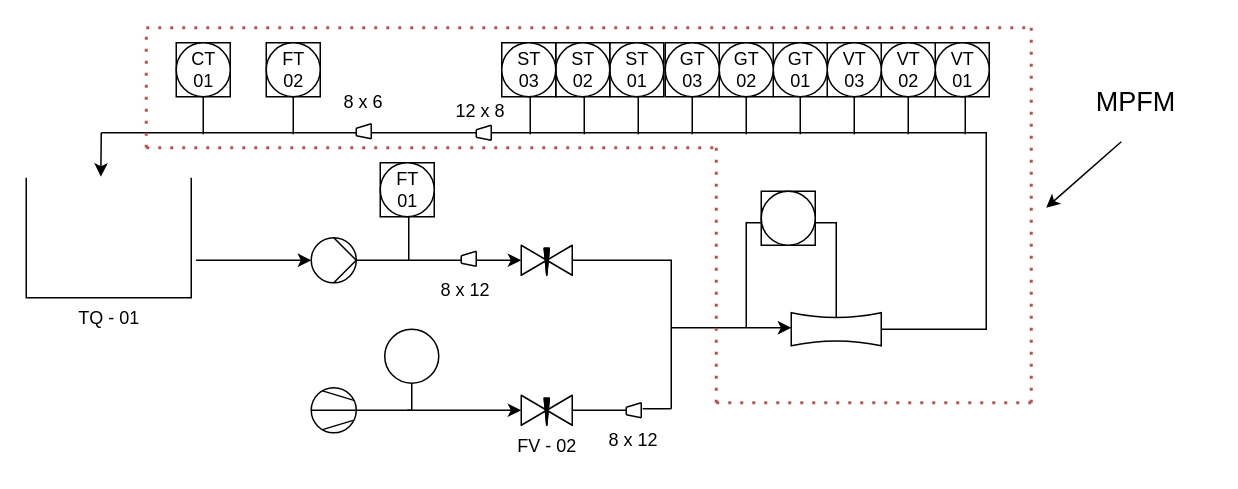
Image size: 1238x489. Some labels were removed from this diagram. Each missing label, with the centre of its shape:
"B - 01" goes at point (333, 259).
"C - 01" goes at point (333, 409).
"FG 01" goes at point (411, 355).
"FV - 01" goes at point (546, 259).
"PDT 01" goes at point (787, 217).
